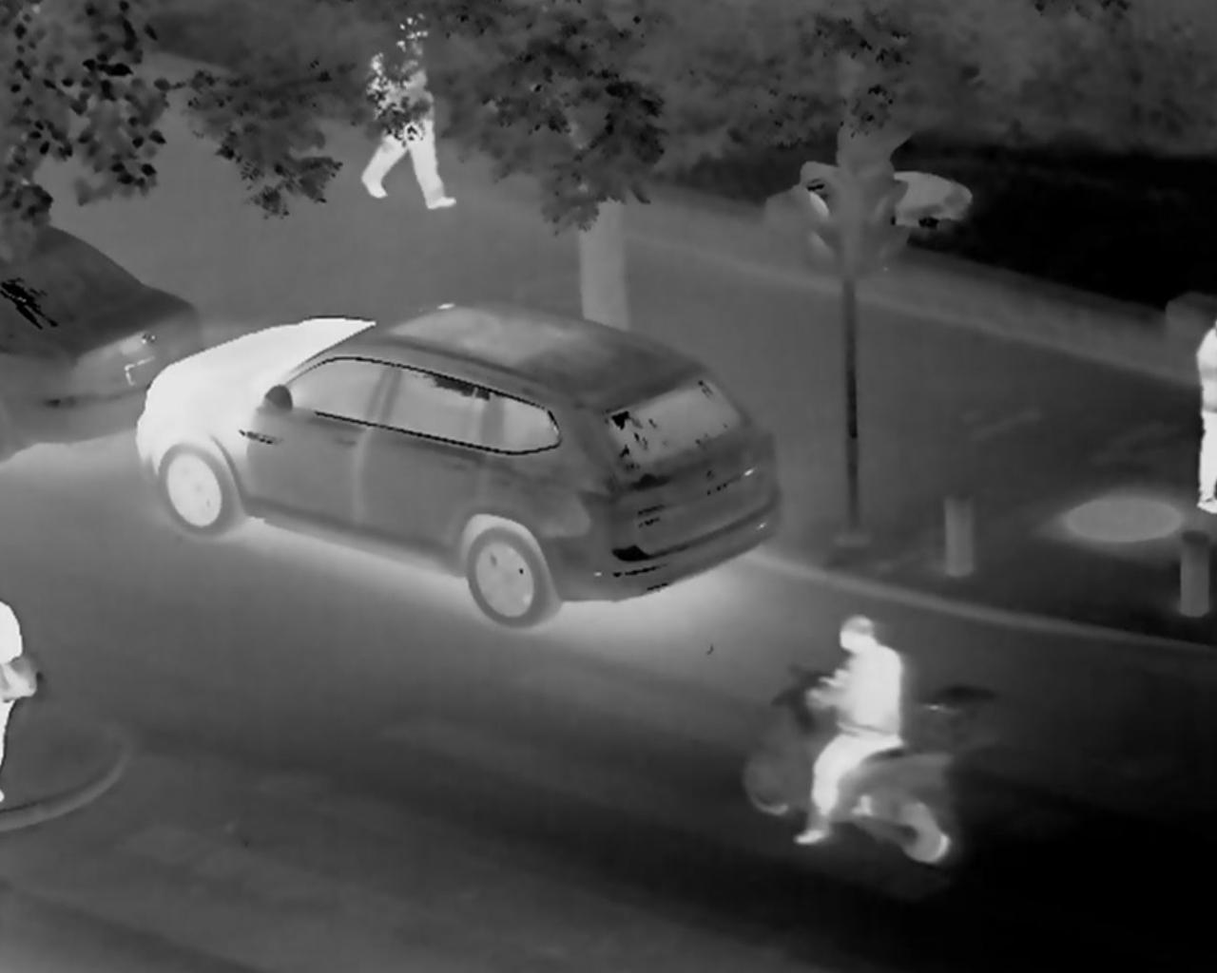person: (795, 609, 906, 847), (357, 10, 460, 211)
